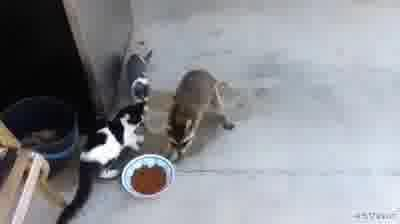raccoon: (167, 68, 236, 163)
